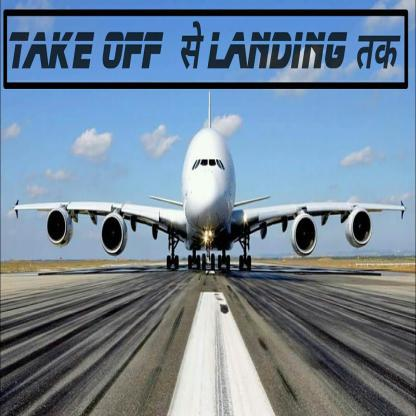CIV_Plane: (9, 92, 409, 294)
